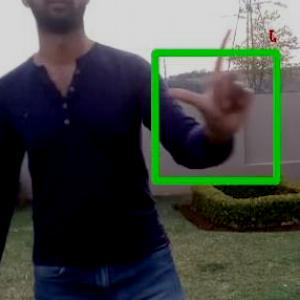land_hand: (165, 22, 263, 143)
